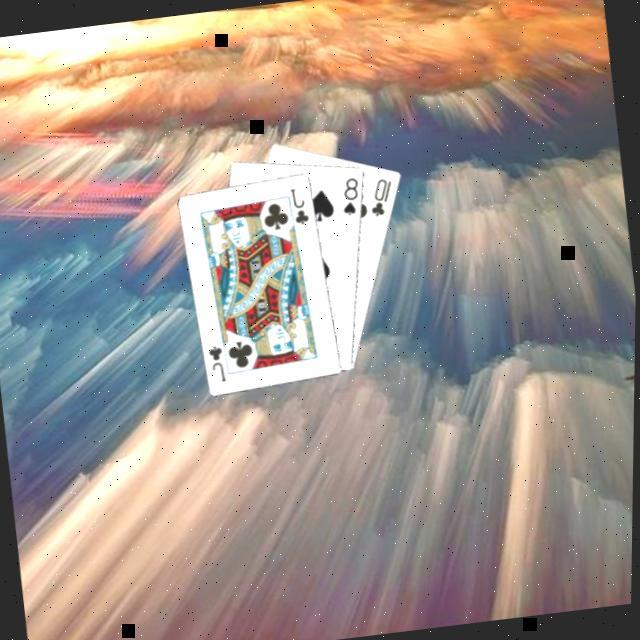10C: (363, 175, 398, 221)
8S: (336, 174, 364, 220)
JC: (285, 185, 313, 229), (204, 343, 230, 388)
